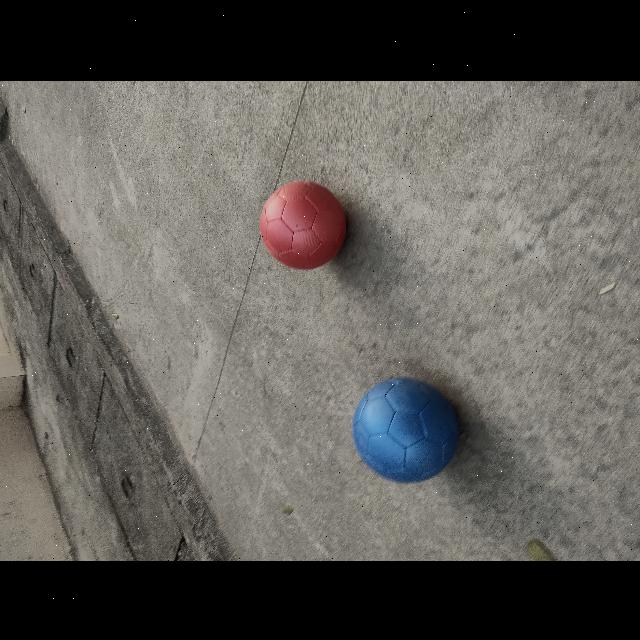B: (352, 376, 462, 482)
R: (260, 180, 348, 268)
